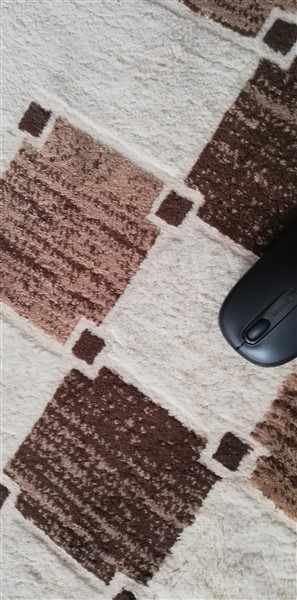mouse: (216, 189, 297, 371)
